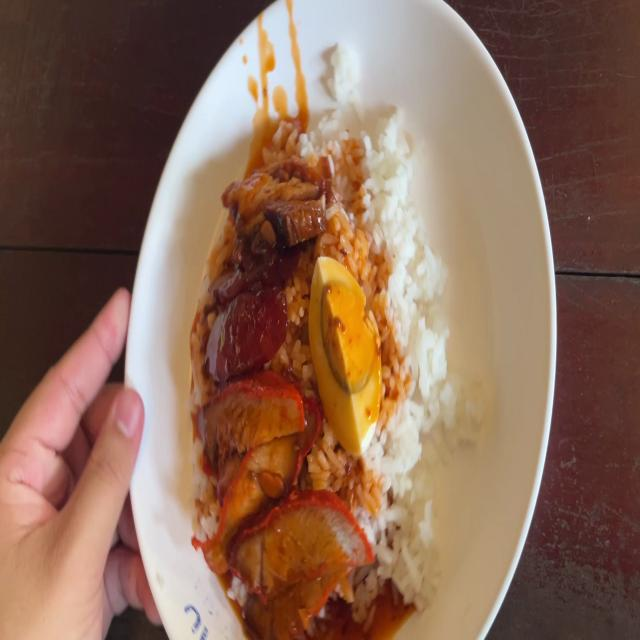red_pork_and_crispy_pork: (313, 267, 381, 446)
stir_fried_basil: (208, 241, 290, 361)
